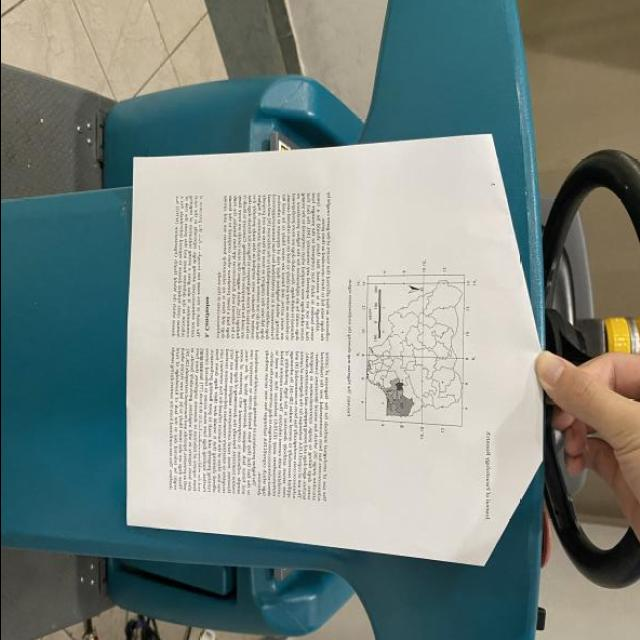kertas: (126, 135, 541, 564)
